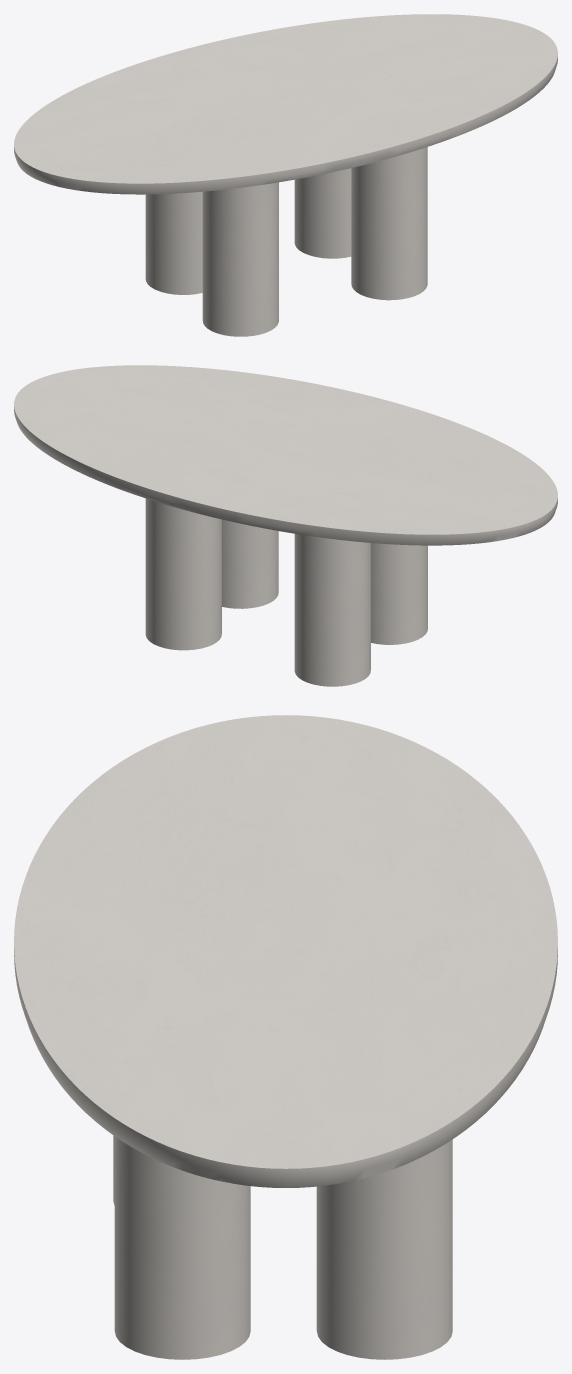
The model's file is pearlwhite_ellips_facet_grove.glb.
3 renders of one model, top to bottom at view 1: azimuth 30°, elevation 25°; view 2: azimuth 150°, elevation 25°; view 3: azimuth 270°, elevation 25°, orthographic. The views are drawn at different scales.
Parts seen in each view (by area): view 1: tabletop_ellips_facet.012, tableleg_grove.001; view 2: tabletop_ellips_facet.012, tableleg_grove.001; view 3: tabletop_ellips_facet.012, tableleg_grove.001.
Boxes of the visible parts, x1,y1,x2,y2 form: tabletop_ellips_facet.012: (14, 14, 557, 194); tableleg_grove.001: (145, 147, 427, 336); tabletop_ellips_facet.012: (14, 365, 557, 545); tableleg_grove.001: (145, 498, 427, 686); tabletop_ellips_facet.012: (14, 715, 557, 1187); tableleg_grove.001: (113, 1135, 452, 1359).
Bounding box in the file's own units: 7.5 × 2.5 × 3.8.
1 material, 1 textured.
